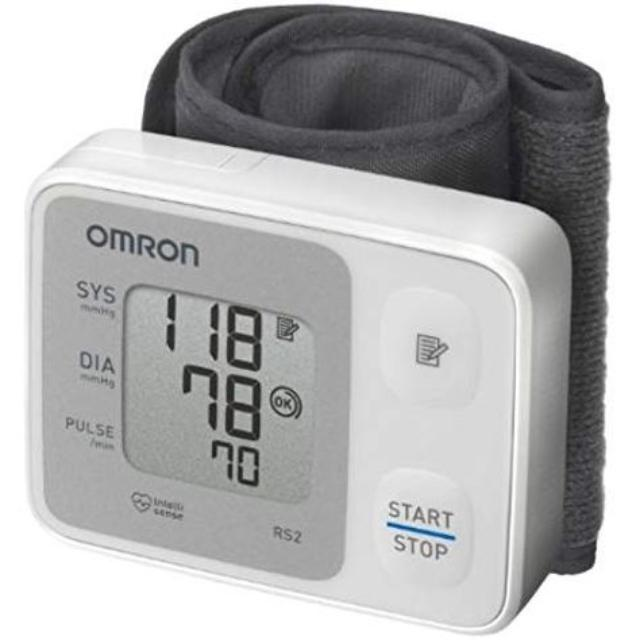Blood-Pressure-Monitor: (30, 5, 609, 631)
